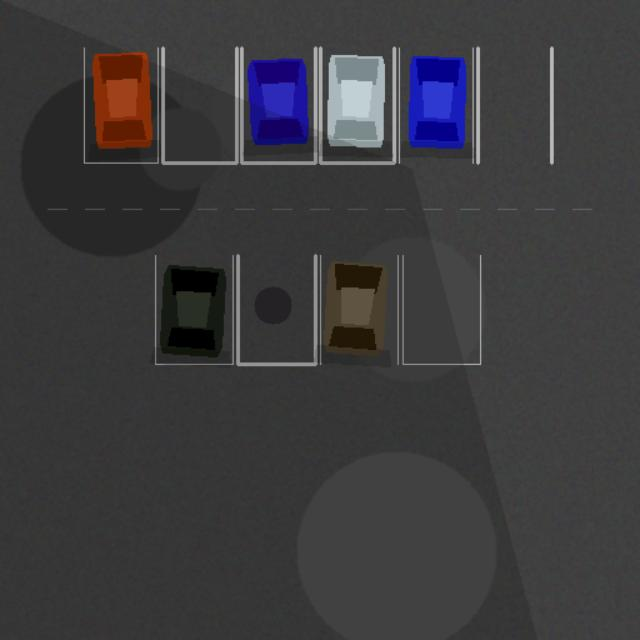space-empty: (162, 47, 236, 162), (402, 255, 480, 364), (478, 47, 551, 162), (238, 255, 315, 364)
space-occupied: (84, 47, 158, 162), (241, 47, 315, 162), (320, 47, 394, 162), (320, 255, 398, 364), (399, 47, 472, 162), (155, 255, 232, 364)
